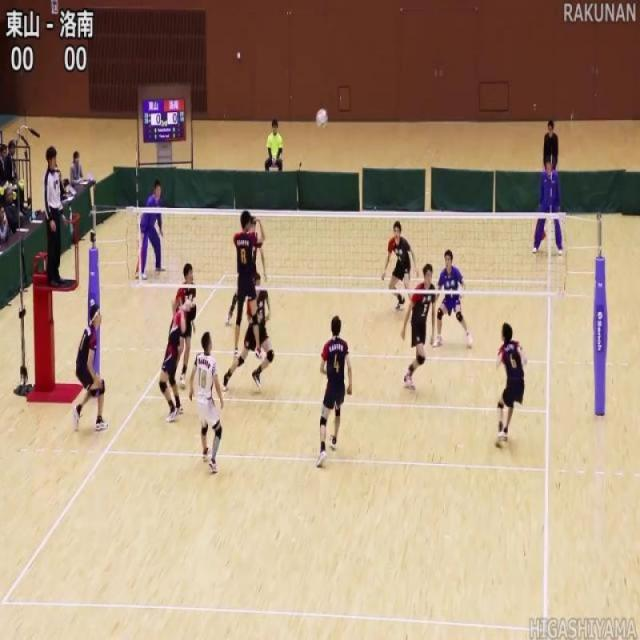volleyball: (314, 106, 330, 130)
